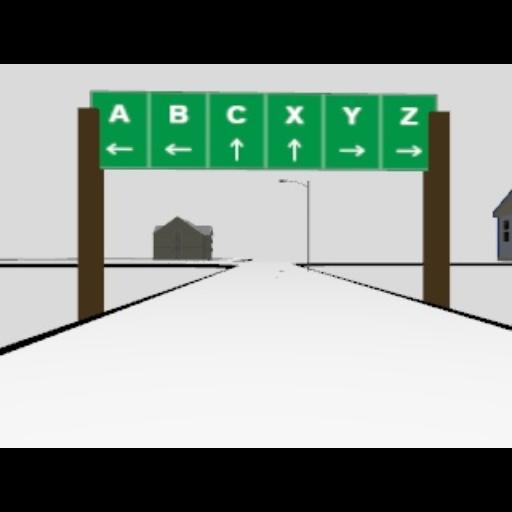A: (107, 102, 129, 124)
B: (168, 104, 188, 124)
C: (226, 104, 246, 124)
Left: (162, 142, 194, 156), (104, 142, 134, 156)
Right: (394, 144, 422, 156), (338, 144, 364, 156)
Straight: (229, 138, 243, 160), (287, 138, 301, 160)
X: (284, 104, 304, 124)
Y: (340, 106, 362, 124)
Z: (398, 106, 420, 124)
